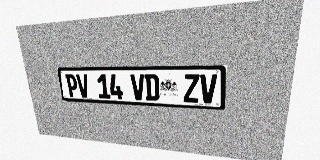1: (96, 74, 111, 99)
4: (108, 74, 123, 99)
D: (144, 74, 160, 101)
P: (65, 74, 79, 97)
V: (200, 74, 217, 104), (130, 74, 145, 100), (76, 74, 90, 98)
Z: (183, 74, 200, 103)
